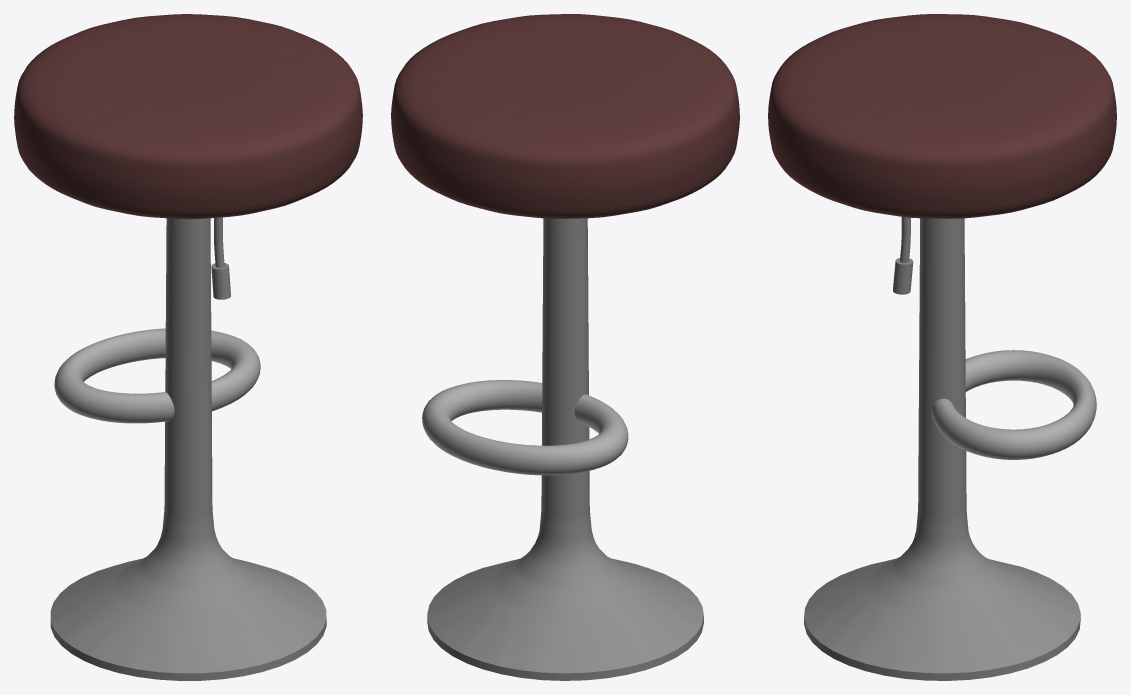
The model's file is Tabouret5_1.fbx.
The picture shows the model from 3 angles, left to right: view 1: azimuth 30°, elevation 25°; view 2: azimuth 150°, elevation 25°; view 3: azimuth 270°, elevation 25°; orthographic projection.
Parts seen in each view (by area): view 1: pCylinder231, pCylinder232, pTorus2, pCylinder233; view 2: pCylinder231, pCylinder232, pTorus2; view 3: pCylinder231, pCylinder232, pTorus2, pCylinder233.
Part boxes in pixels (<box>): pCylinder231: <box>14,14,362,219</box>; pCylinder232: <box>50,218,326,680</box>; pTorus2: <box>54,328,260,423</box>; pCylinder233: <box>211,217,230,299</box>; pCylinder231: <box>391,14,739,218</box>; pCylinder232: <box>427,218,703,680</box>; pTorus2: <box>422,380,628,475</box>; pCylinder231: <box>768,14,1116,218</box>; pCylinder232: <box>804,218,1080,680</box>; pTorus2: <box>931,350,1096,459</box>; pCylinder233: <box>893,216,913,294</box>.
Size of the model in its own units: 32.76 by 56.66 by 32.76.
